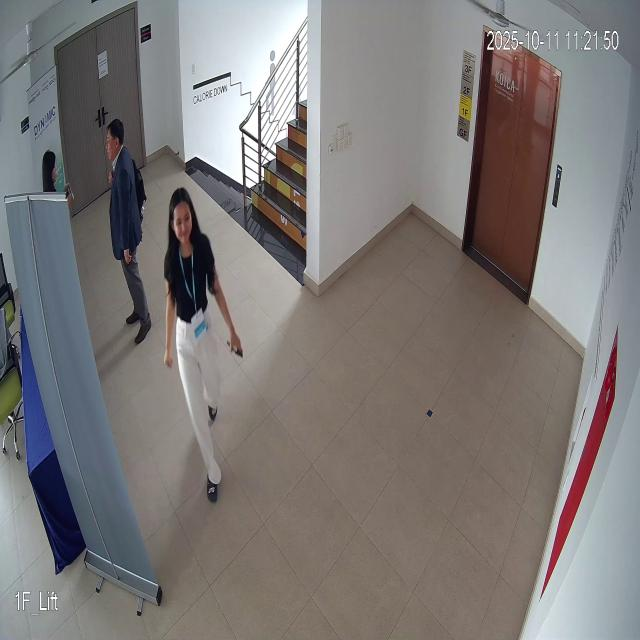face: (164, 180, 202, 253)
